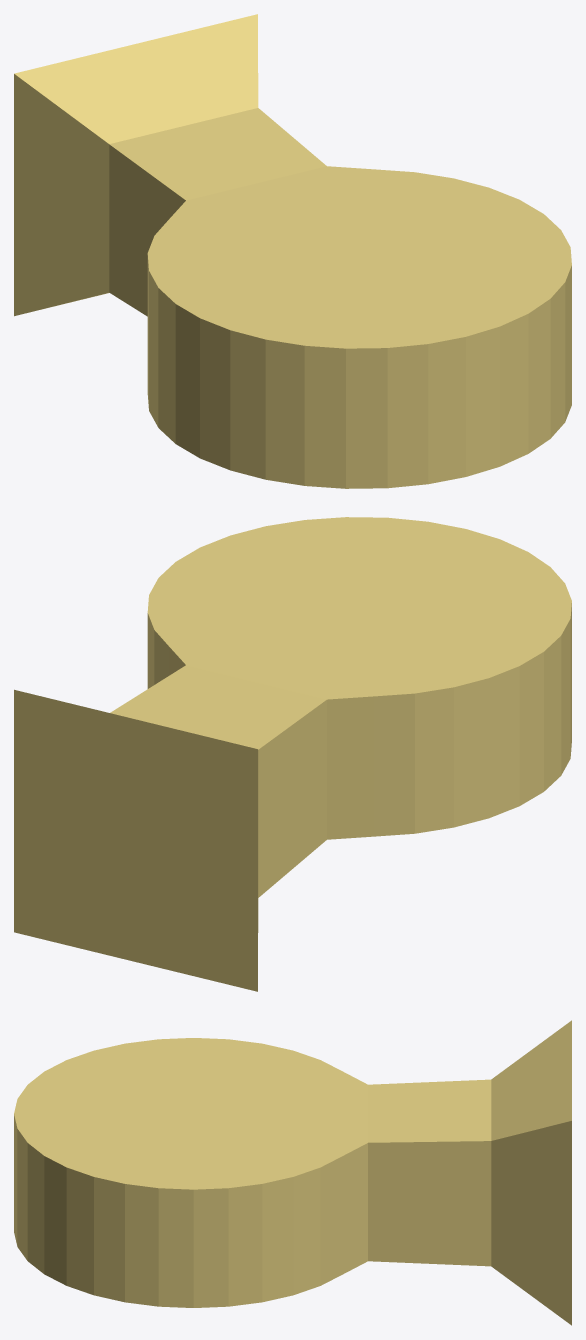
The model's file is Torch_Stand.fbx.
3 views of the same model, one above another, from view 1: azimuth 30°, elevation 25°; view 2: azimuth 150°, elevation 25°; view 3: azimuth 270°, elevation 25° (orthographic). The views are drawn at different scales.
Visible parts, largest first — view 1: Torch_Holder; view 2: Torch_Holder; view 3: Torch_Holder.
Part boxes in pixels (x1=…): Torch_Holder: x1=14, y1=14, x2=571, y2=488; Torch_Holder: x1=14, y1=517, x2=571, y2=991; Torch_Holder: x1=14, y1=1020, x2=571, y2=1325.
Bounding box in the file's own units: 170 × 107 × 263.
